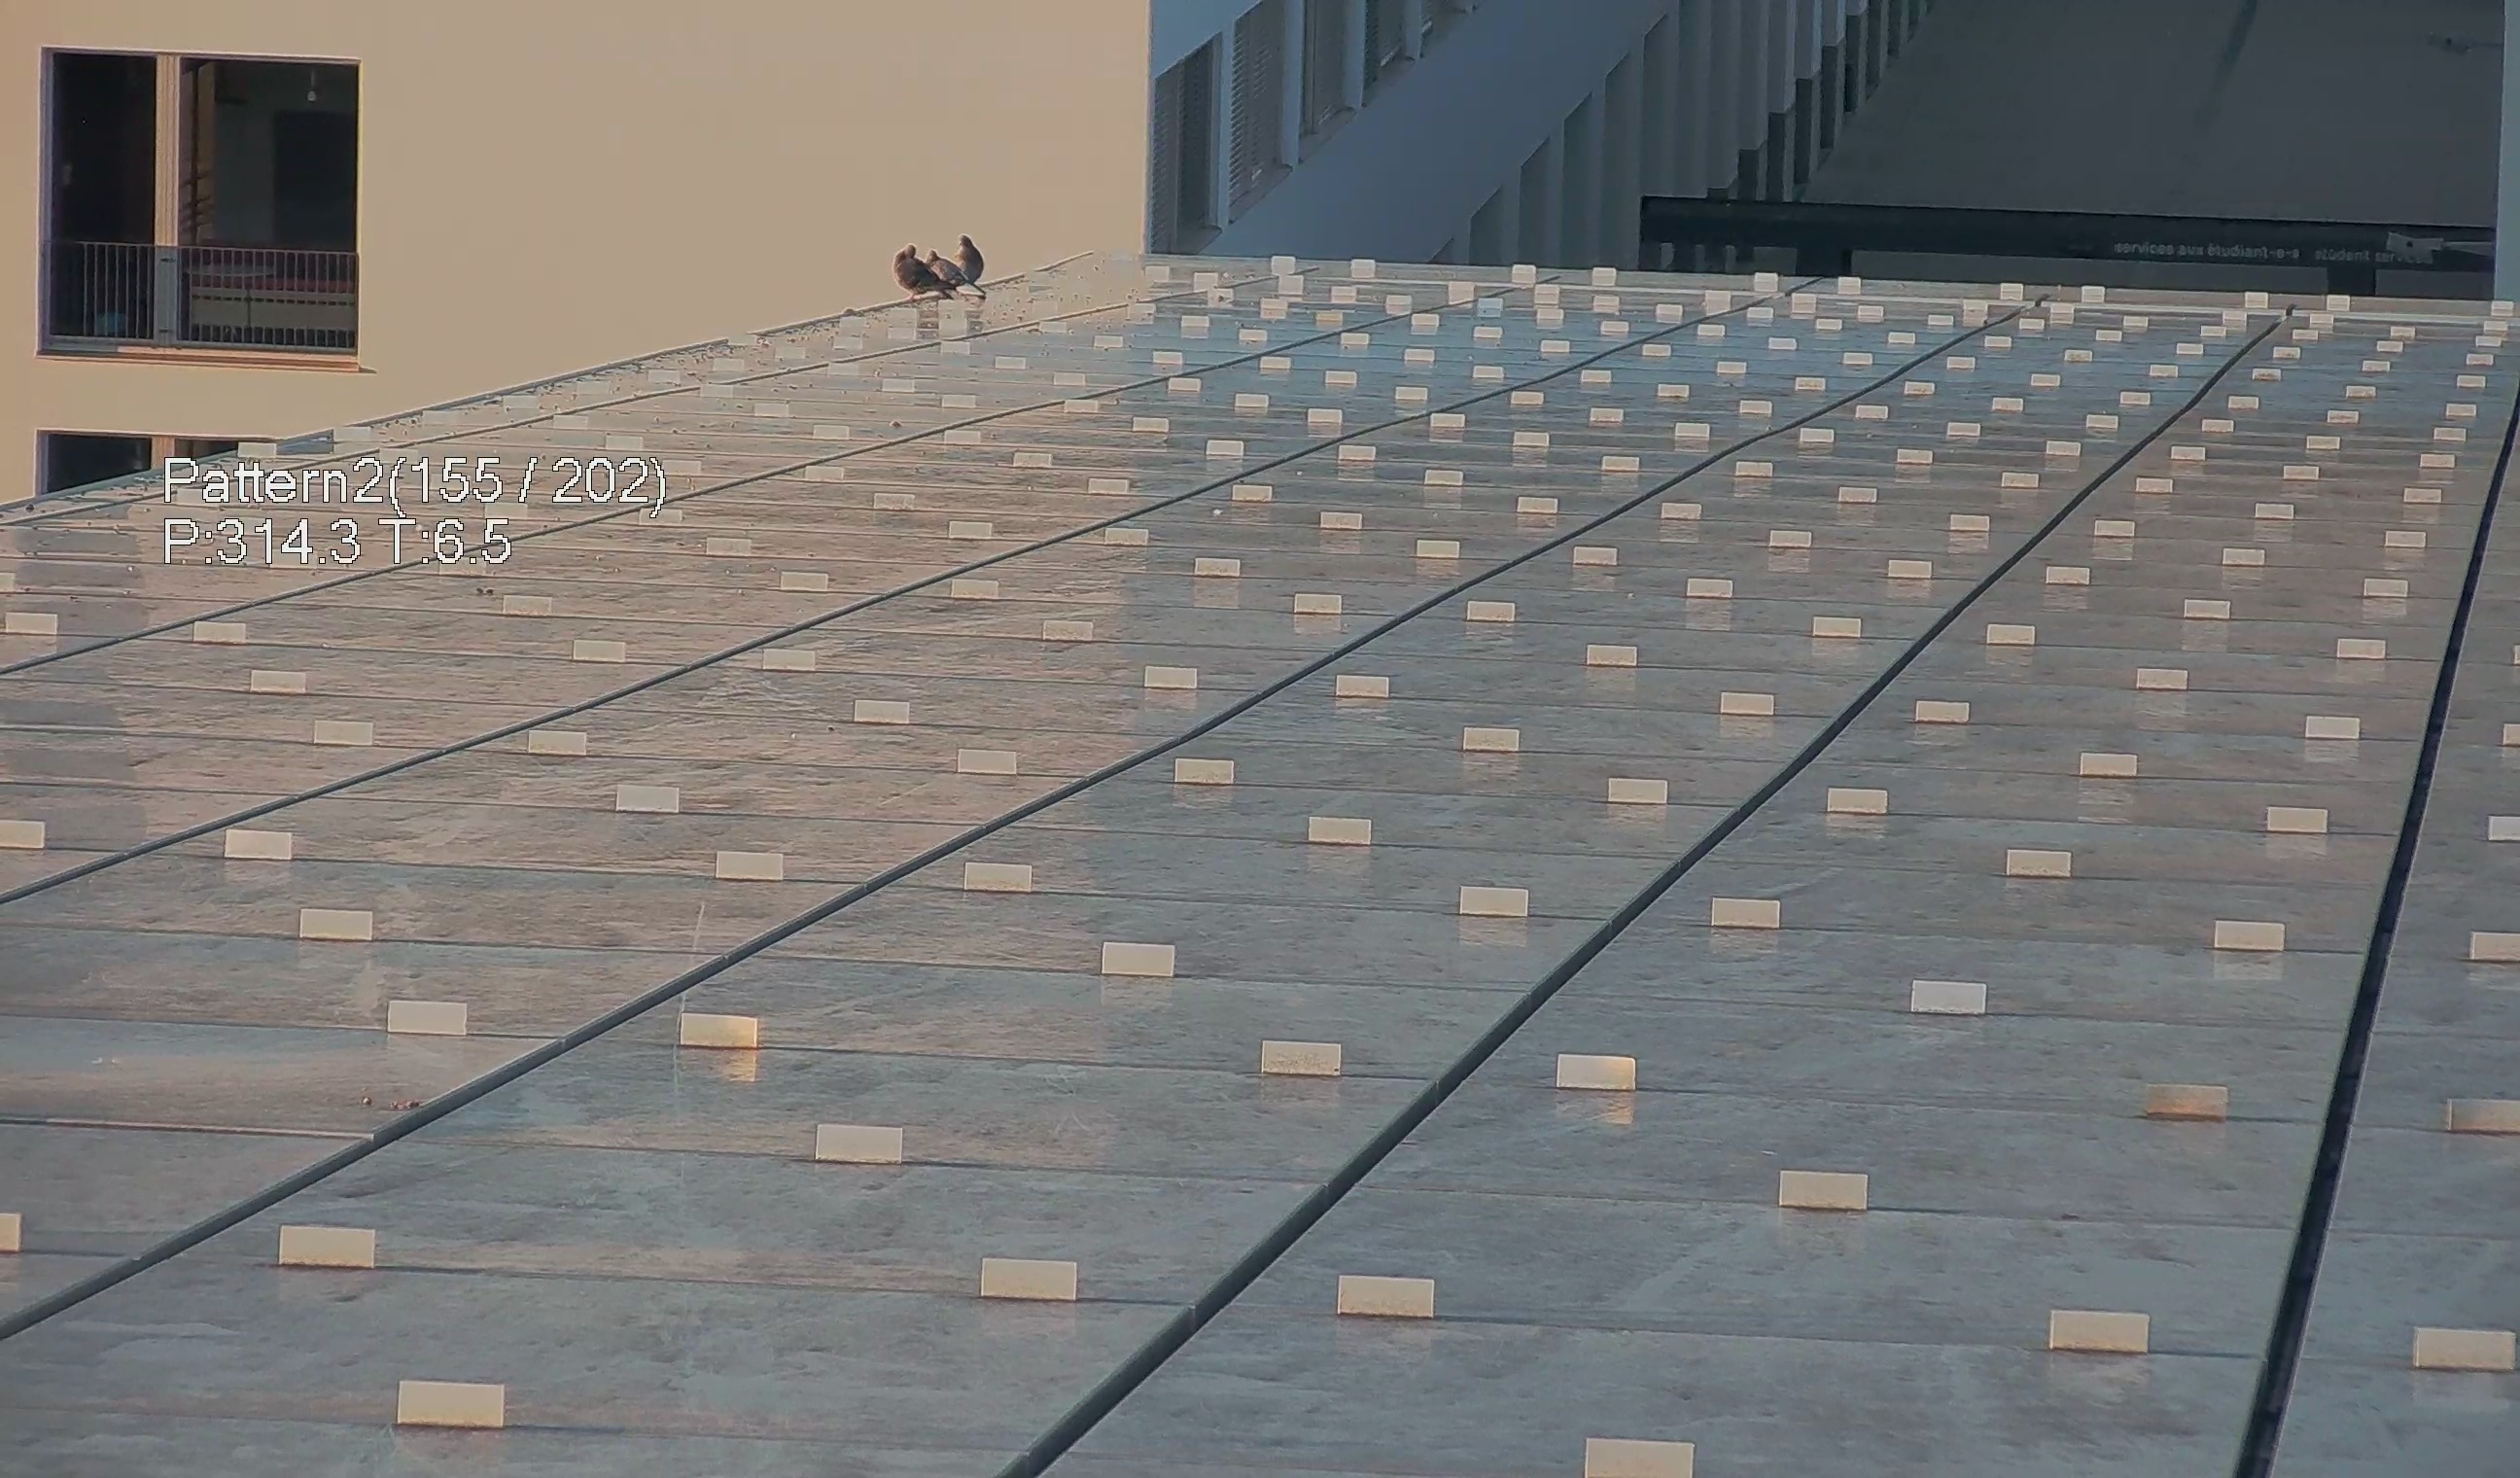Pigeon: (890, 239, 958, 308), (923, 250, 987, 292), (951, 234, 987, 289)
